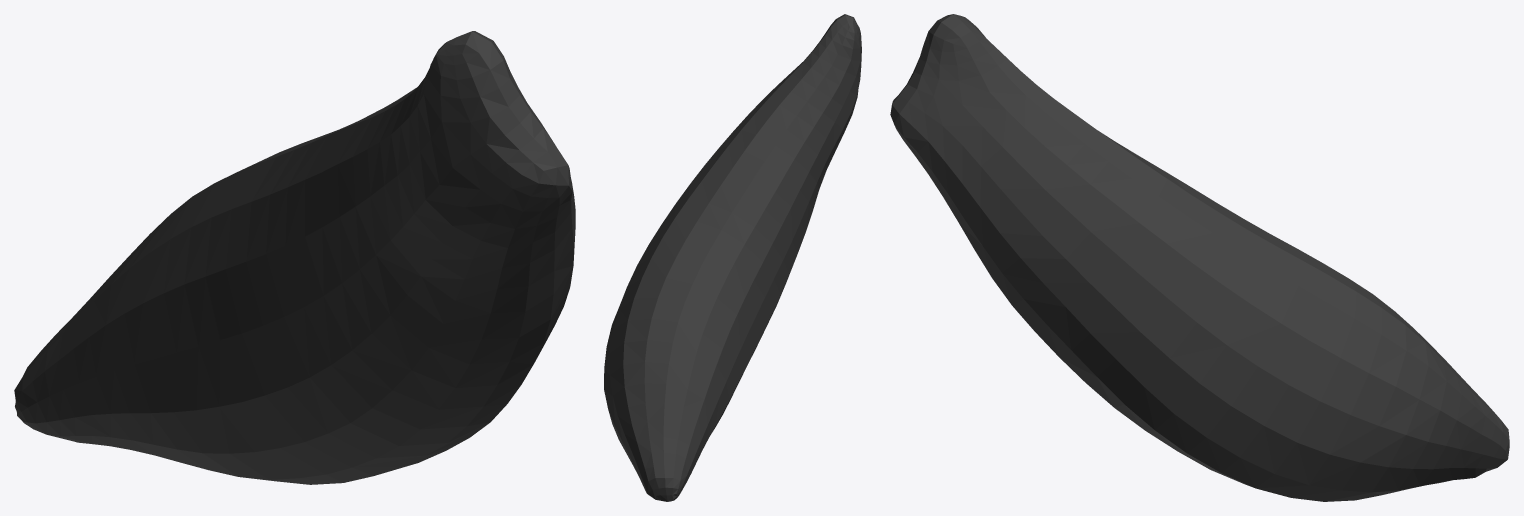
The model's file is Lateral.glb.
The picture shows the model from 3 angles, left to right: view 1: azimuth 30°, elevation 25°; view 2: azimuth 150°, elevation 25°; view 3: azimuth 270°, elevation 25°; orthographic projection. The views are drawn at different scales.
Visible parts, largest first — view 1: Lateral; view 2: Lateral; view 3: Lateral.
Part boxes in pixels (x1,y1,x2,y2): Lateral: [14, 31, 575, 484]; Lateral: [604, 14, 861, 501]; Lateral: [890, 14, 1509, 501].
Bounding box in the file's own units: 13.69 × 32.08 × 38.75.
Materials: 1 (1 with a texture image).
